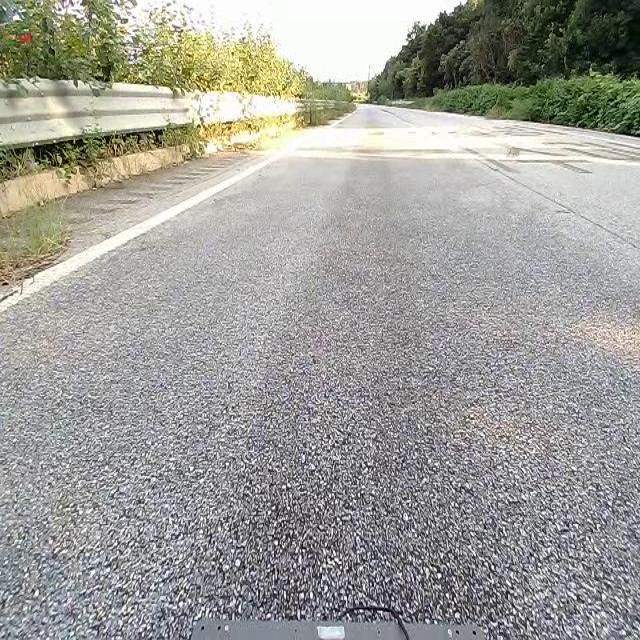Lane: (0, 146, 296, 316), (0, 151, 288, 313)
